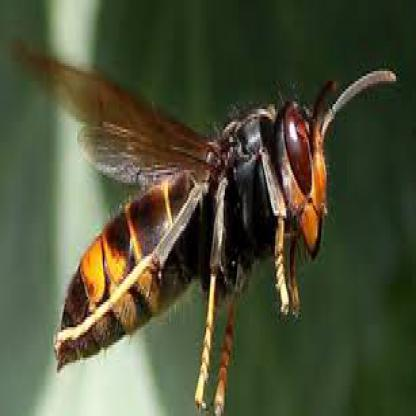asian: (13, 26, 394, 408)
